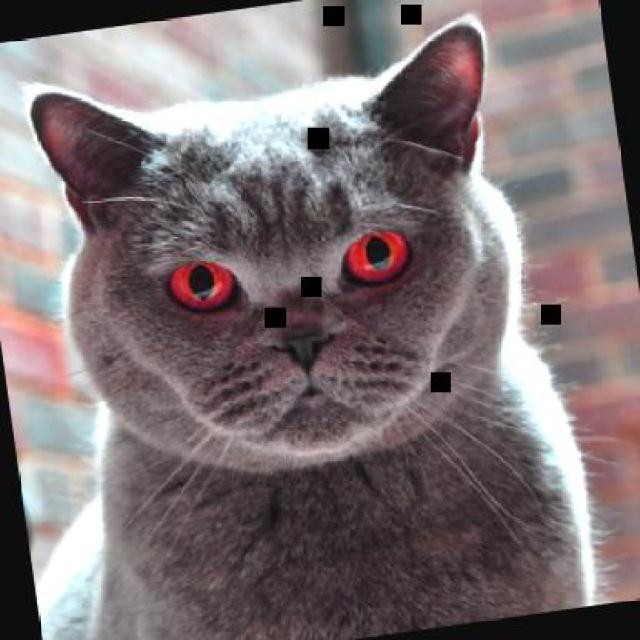cat: (0, 14, 603, 638)
